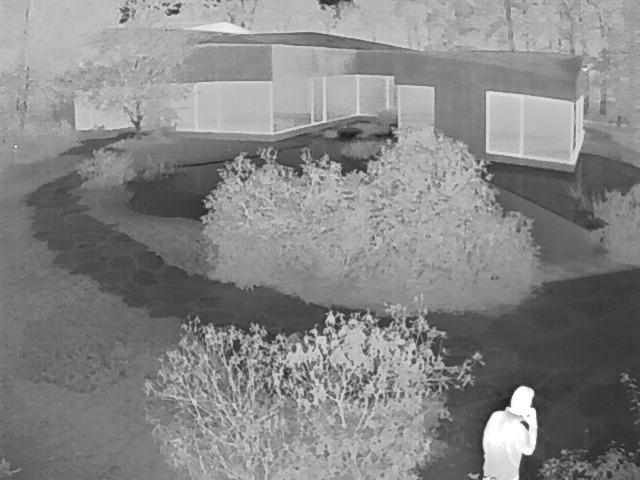person: (483, 384, 541, 479)
